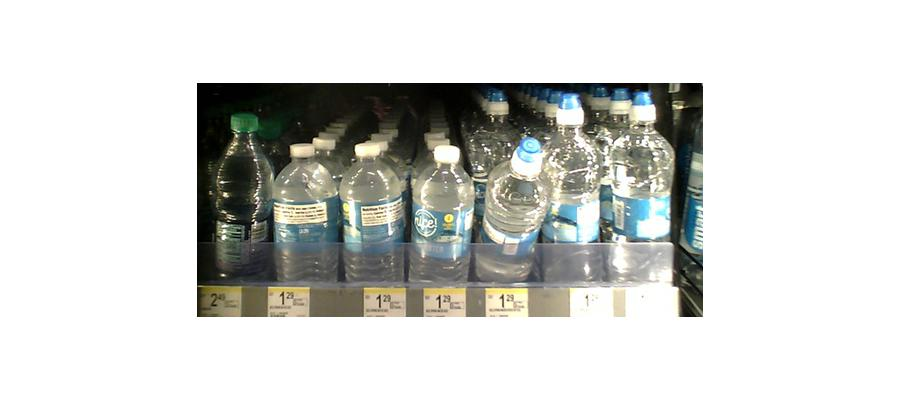bottle: (607, 93, 673, 285), (541, 93, 603, 286), (209, 110, 272, 283), (339, 138, 404, 285), (476, 139, 542, 283), (274, 135, 337, 284), (409, 142, 470, 287)
